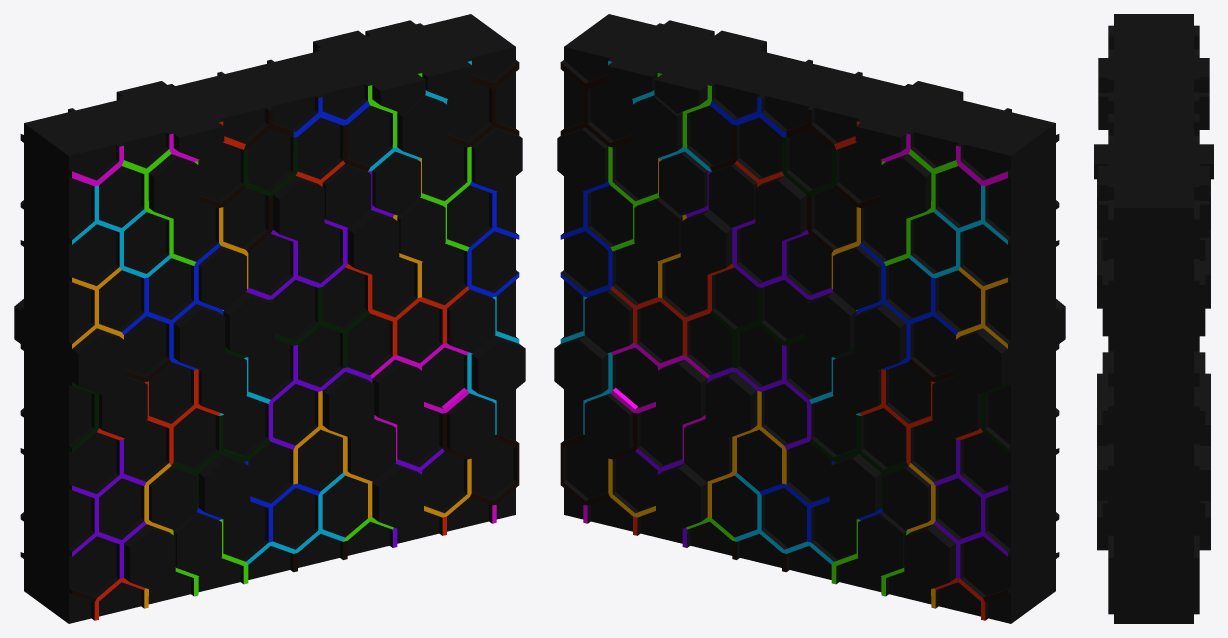
File: P_Wall_Volume.FBX
The picture shows the model from 3 angles, left to right: view 1: azimuth 30°, elevation 25°; view 2: azimuth 150°, elevation 25°; view 3: azimuth 270°, elevation 25°; orthographic projection. The views are drawn at different scales.
Visible parts, largest first — view 1: P_Hexagonal_Wall; view 2: P_Hexagonal_Wall; view 3: P_Hexagonal_Wall.
Part boxes in pixels (x1,y1,x2,y2): P_Hexagonal_Wall: (14,14,525,623); P_Hexagonal_Wall: (554,14,1065,623); P_Hexagonal_Wall: (1094,14,1213,623).
Bounding box in the file's own units: 4 × 4 × 1.04.
